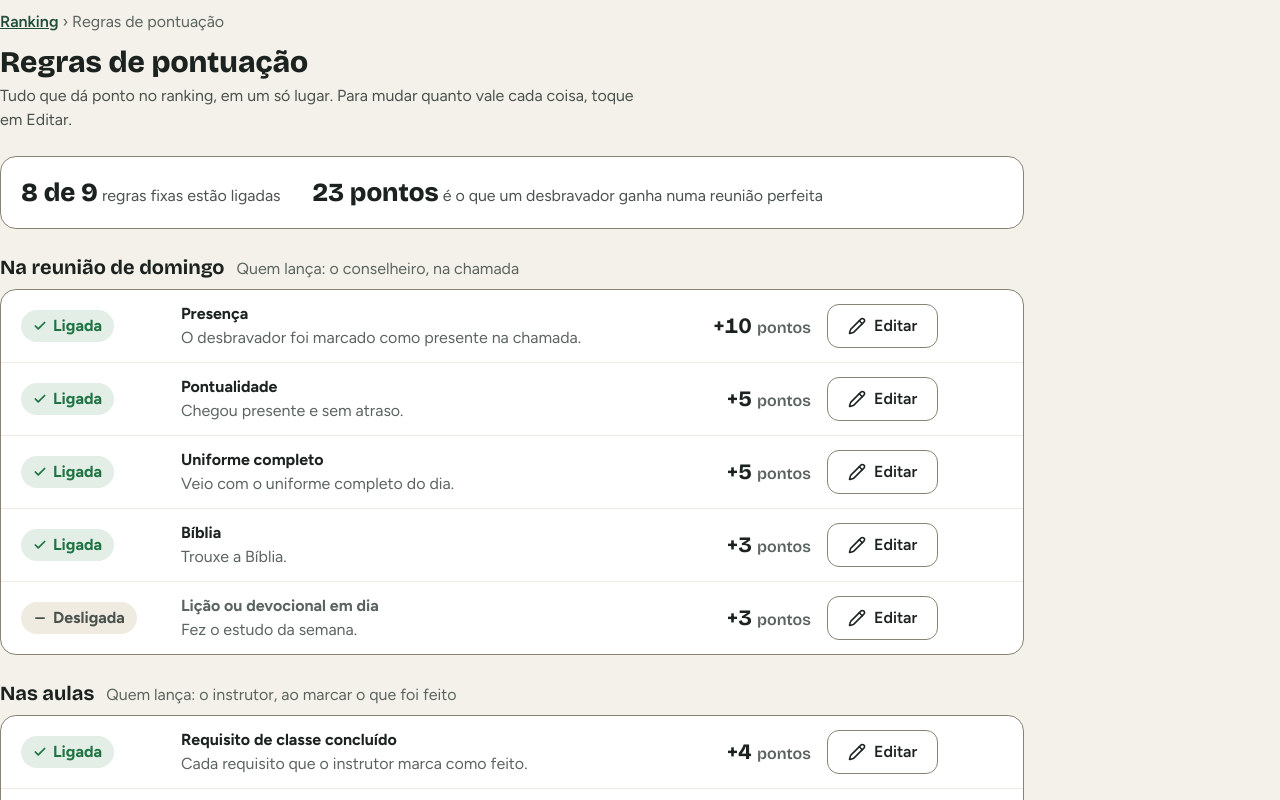
Test: Painel da regra · abertura › traz quem lança, título, descrição, valor, opção ligada e a frase de vigência
The image size is (1280, 800).
Click the button with aria-label "Editar Presença" at point(883, 326), box [827, 304, 938, 348]
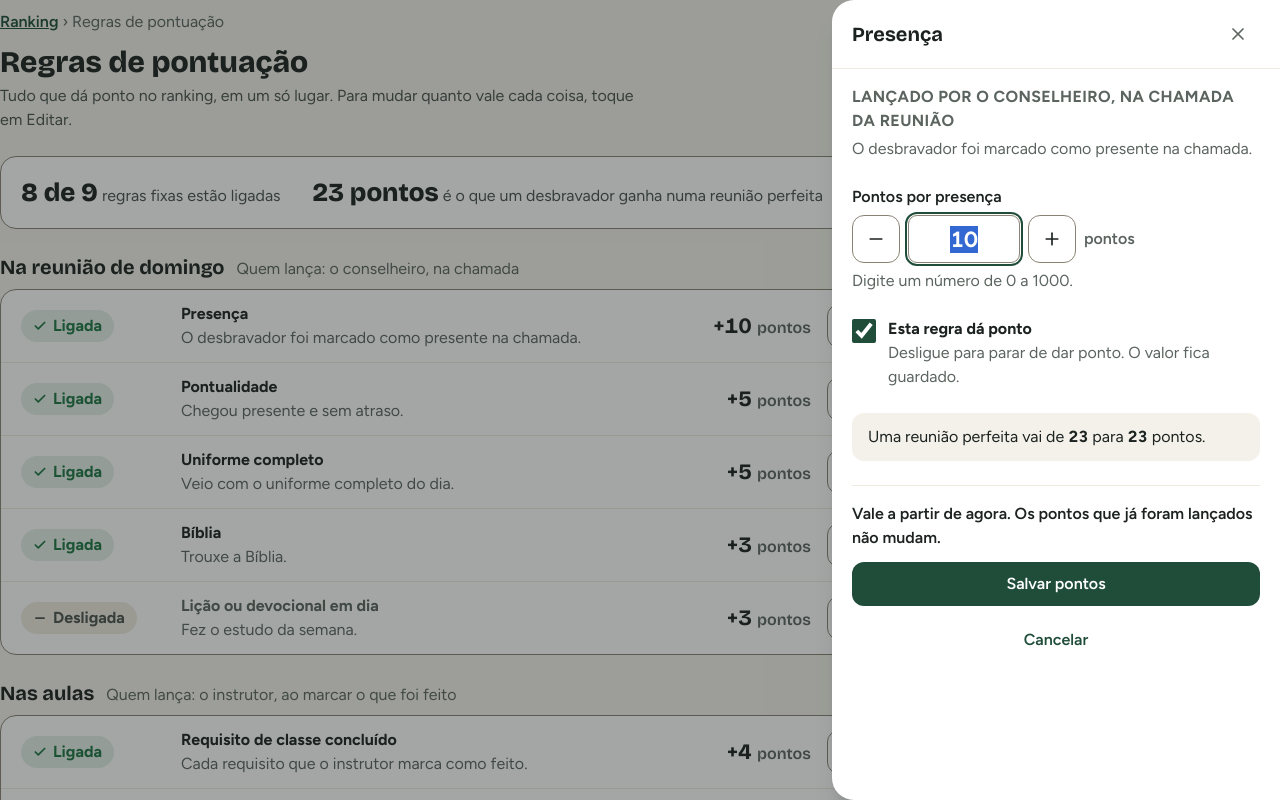
Result: the dialog "Presença" is shown at [832, 0, 1279, 799]
Result: the text "Lançado por o conselheiro, na chamada da reunião" is shown at [852, 85, 1260, 133]
Result: the field labelled "Pontos por presença" holds "10" at [908, 215, 1020, 263]
